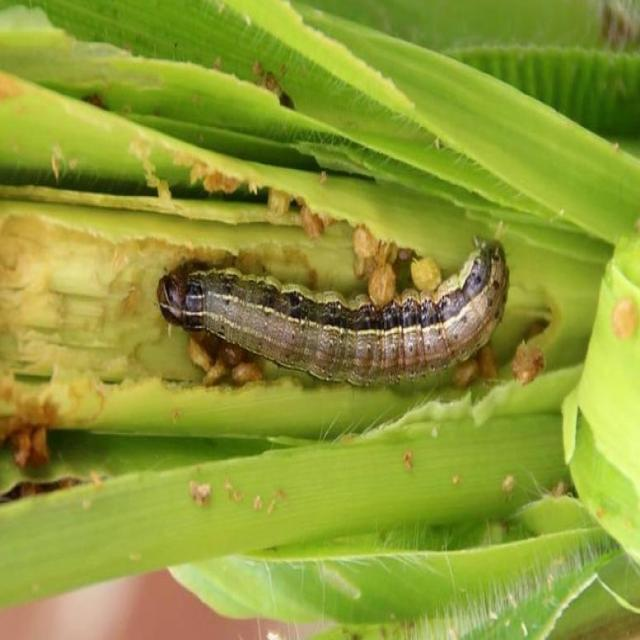army worm: (147, 240, 519, 386)
